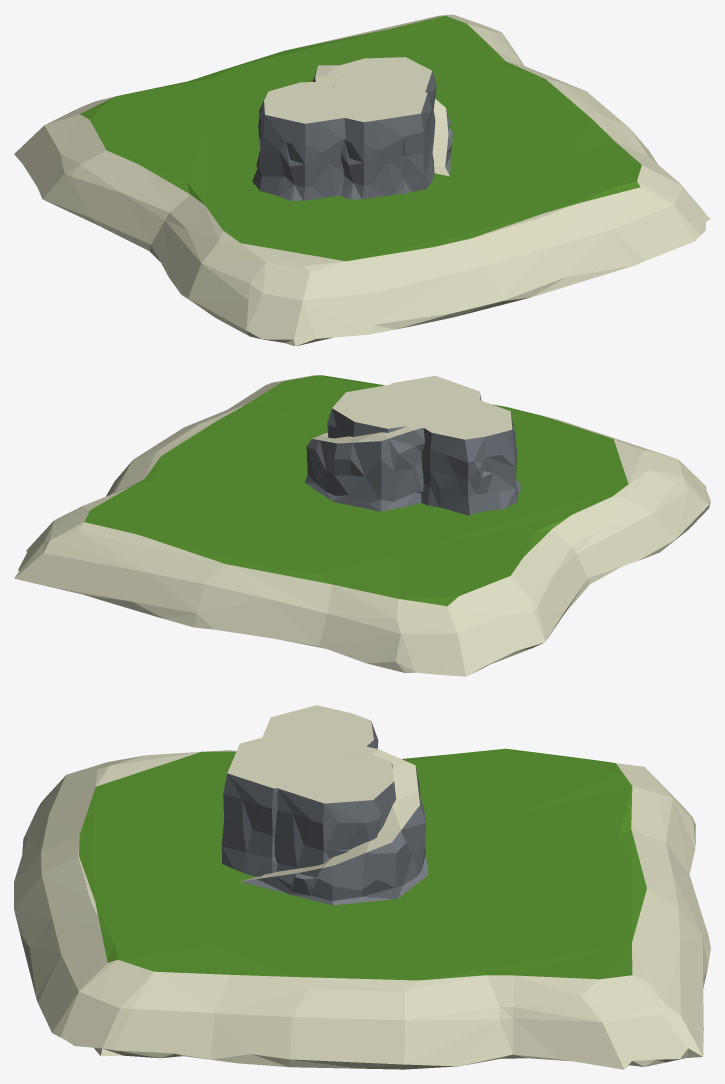
File: Modelo_isla_01_nuevo.fbx
The picture shows the model from 3 angles, top to bottom: view 1: azimuth 30°, elevation 25°; view 2: azimuth 150°, elevation 25°; view 3: azimuth 270°, elevation 25°; orthographic projection. The views are drawn at different scales.
Parts seen in each view (by area): view 1: Nivel_Isla_01; view 2: Nivel_Isla_01; view 3: Nivel_Isla_01.
Boxes of the visible parts, x1,y1,x2,y2 form: Nivel_Isla_01: (14, 14, 710, 346); Nivel_Isla_01: (14, 375, 710, 676); Nivel_Isla_01: (14, 705, 710, 1069).
Bounding box in the file's own units: 56.43 × 13.3 × 56.83.
